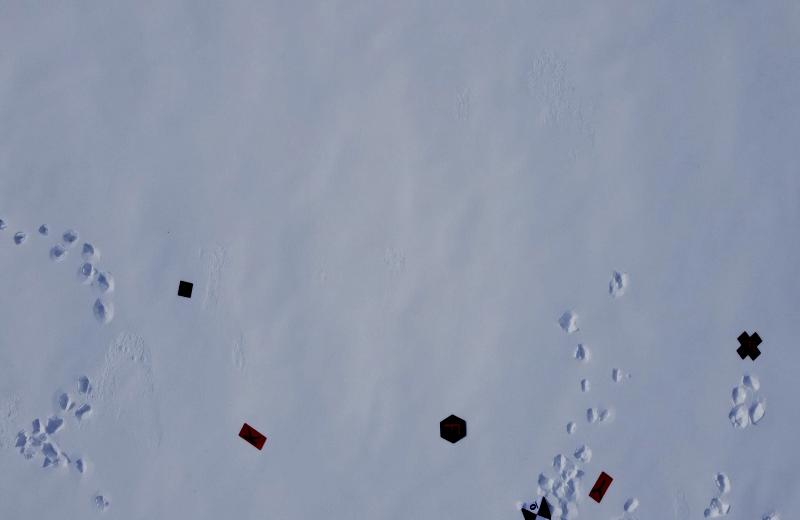Cross: (734, 329, 765, 363)
Hexagon: (440, 413, 468, 445)
Rectangle: (237, 420, 270, 452), (589, 468, 613, 505)
Square: (174, 278, 196, 302)
